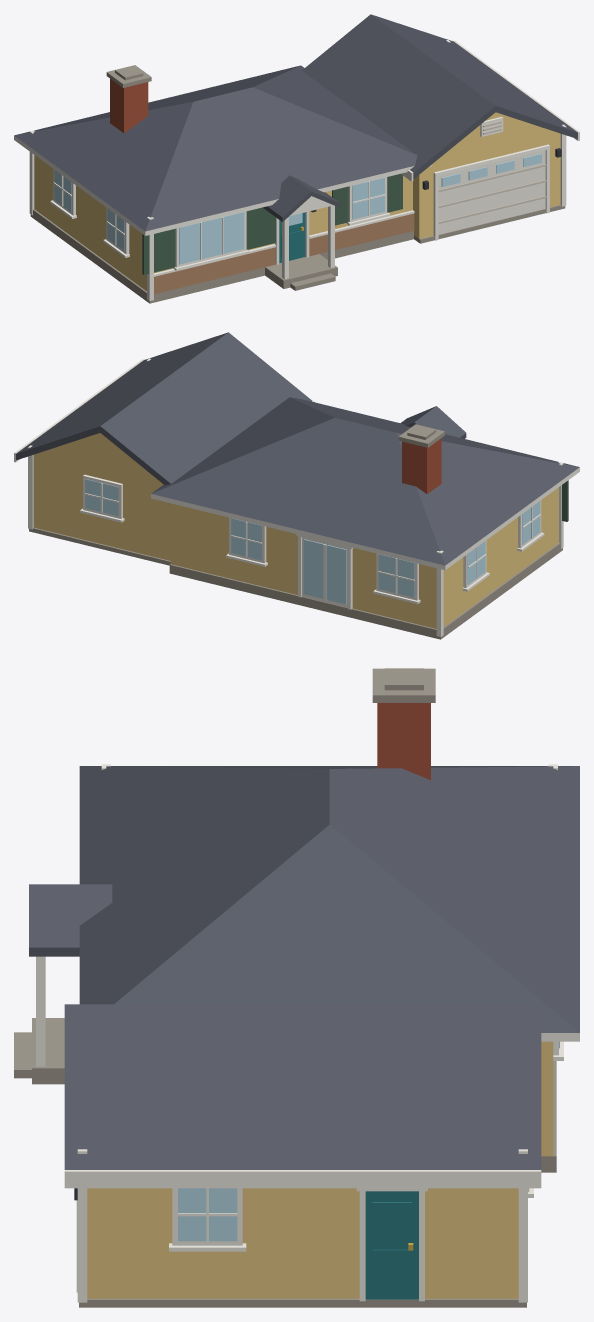
Rendered from house_ranch.glb.
3 renders of one model, top to bottom at view 1: azimuth 30°, elevation 25°; view 2: azimuth 150°, elevation 25°; view 3: azimuth 270°, elevation 25°, orthographic. The views are drawn at different scales.
Parts seen in each view (by area): view 1: house_ranch; view 2: house_ranch; view 3: house_ranch.
Part boxes in pixels (x1,y1,x2,y2): house_ranch: (14, 14, 579, 303); house_ranch: (14, 332, 579, 639); house_ranch: (14, 668, 579, 1307).
Size of the model in its own units: 15.91 by 5.64 by 9.5.
